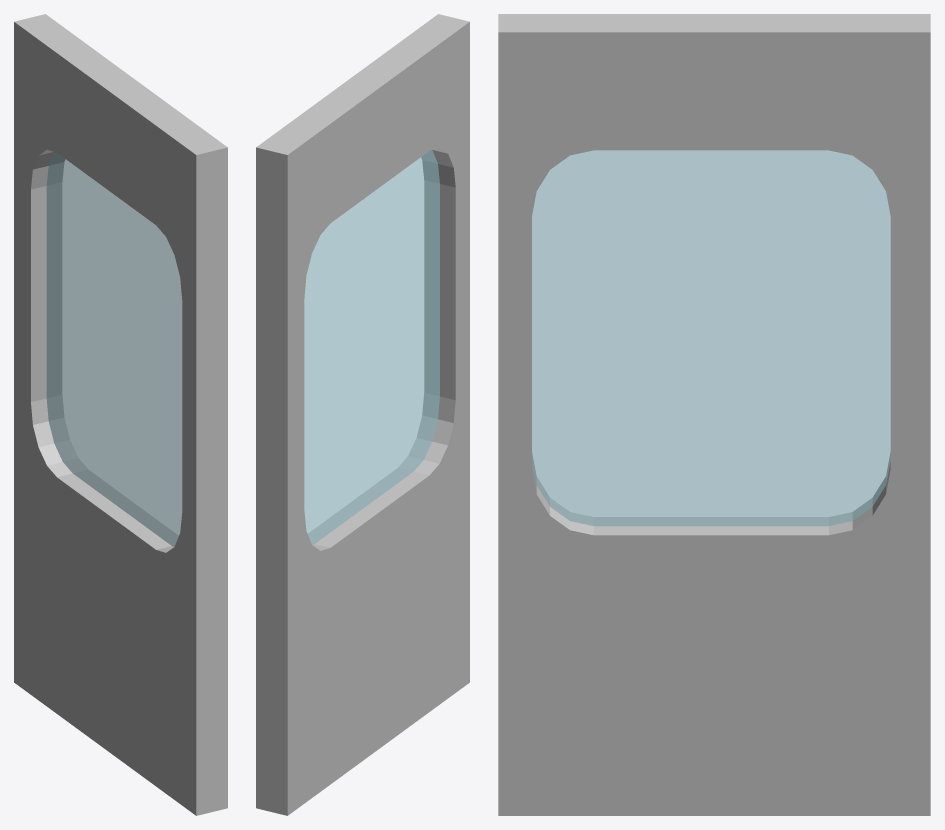
The model's file is window_wall.fbx.
3 renders of one model, left to right at view 1: azimuth 30°, elevation 25°; view 2: azimuth 150°, elevation 25°; view 3: azimuth 270°, elevation 25°, orthographic. The views are drawn at different scales.
Parts seen in each view (by area): view 1: Plane; view 2: Plane; view 3: Plane.
Boxes of the visible parts, x1=… form: Plane: x1=14, y1=14, x2=227, y2=815; Plane: x1=256, y1=14, x2=469, y2=815; Plane: x1=498, y1=14, x2=930, y2=815.
Bounding box in the file's own units: 10 × 200 × 100.
